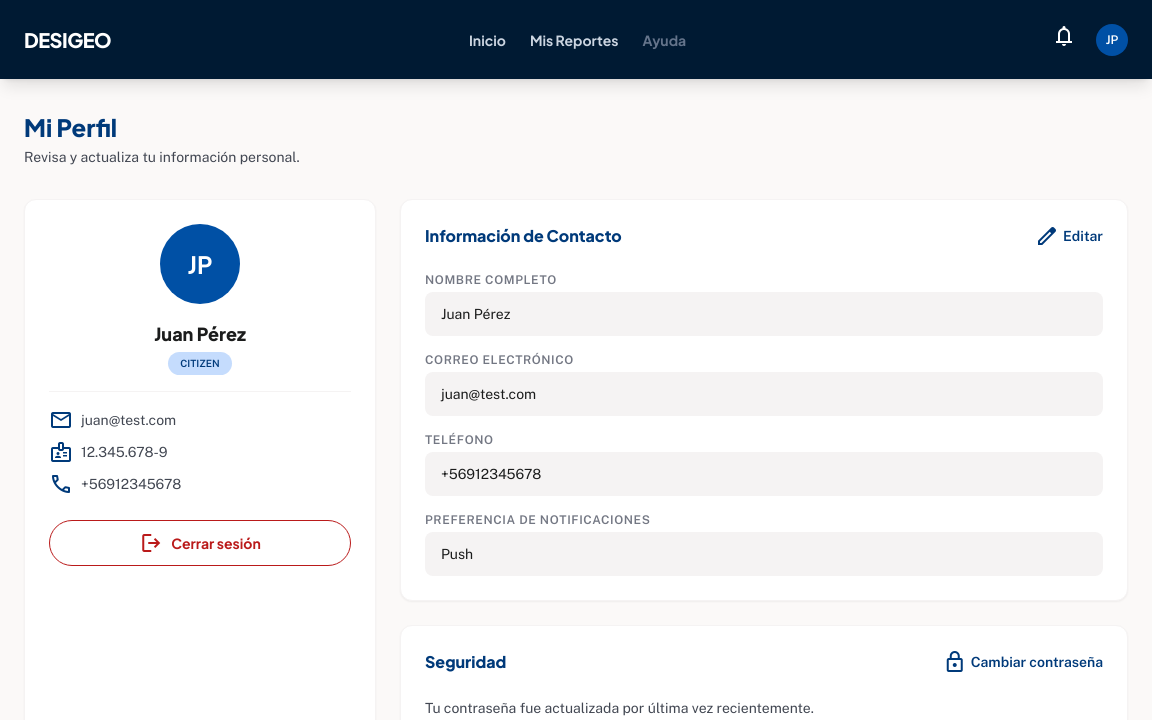
Test: CP-PERFIL — Perfil de Usuario › CP-PERFIL-003: nueva contraseña < 8 caracteres → error de longitud
Check: the heading "Mi Perfil" is shown, box [24, 112, 117, 142]
Click the button "Cambiar contraseña" at (1023, 662), box [943, 650, 1103, 674]
(page scrolled)
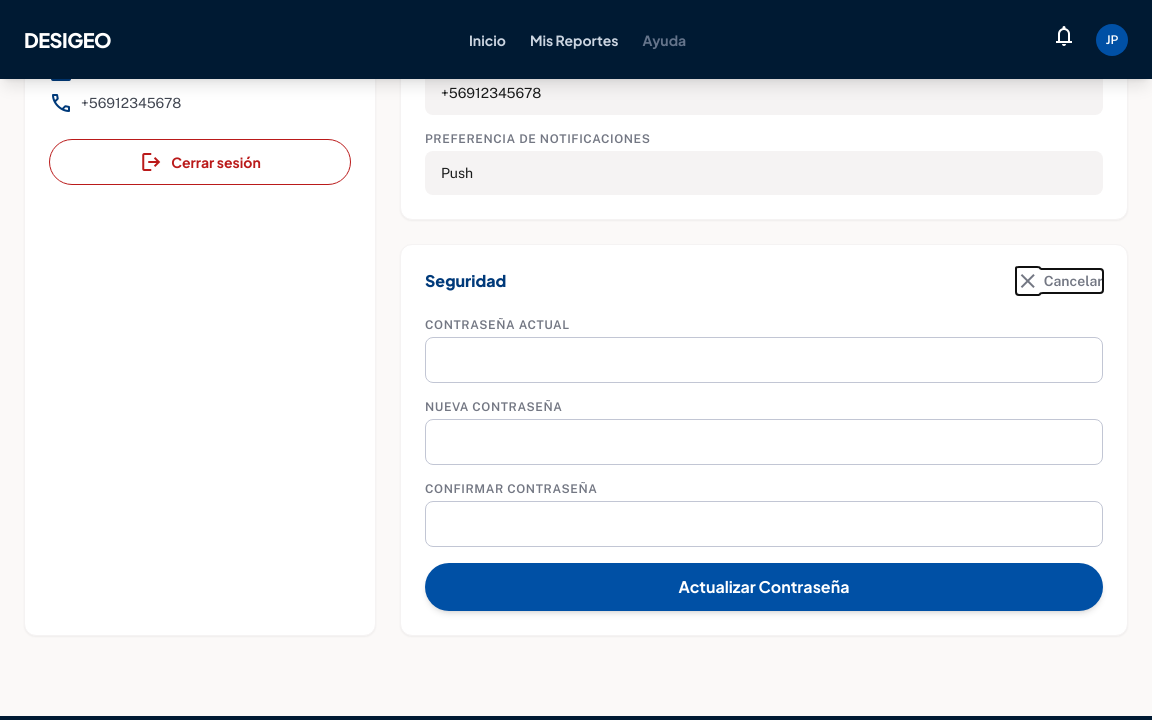
Check: the button "Actualizar Contraseña" is shown, box [425, 563, 1103, 611]
Type "OldPass123!" into the 1st password field at (764, 360), box [425, 337, 1103, 383]
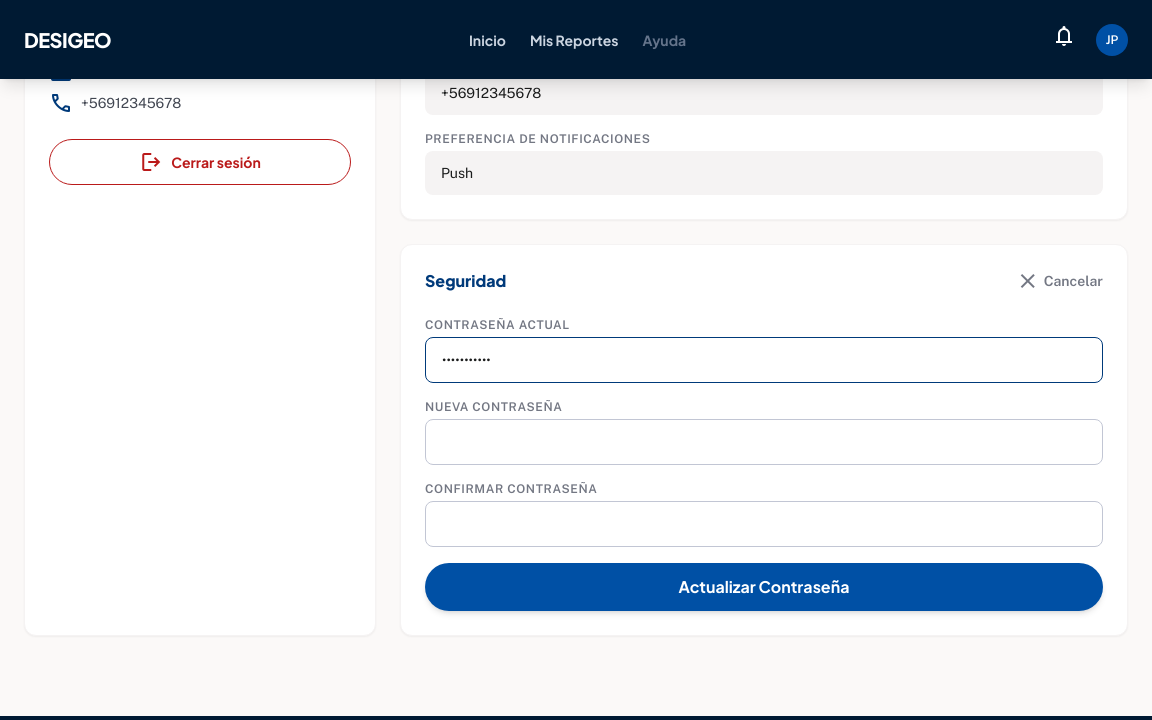
Type "corta" into the password field below "Nueva contraseña" at (764, 442), box [425, 419, 1103, 465]
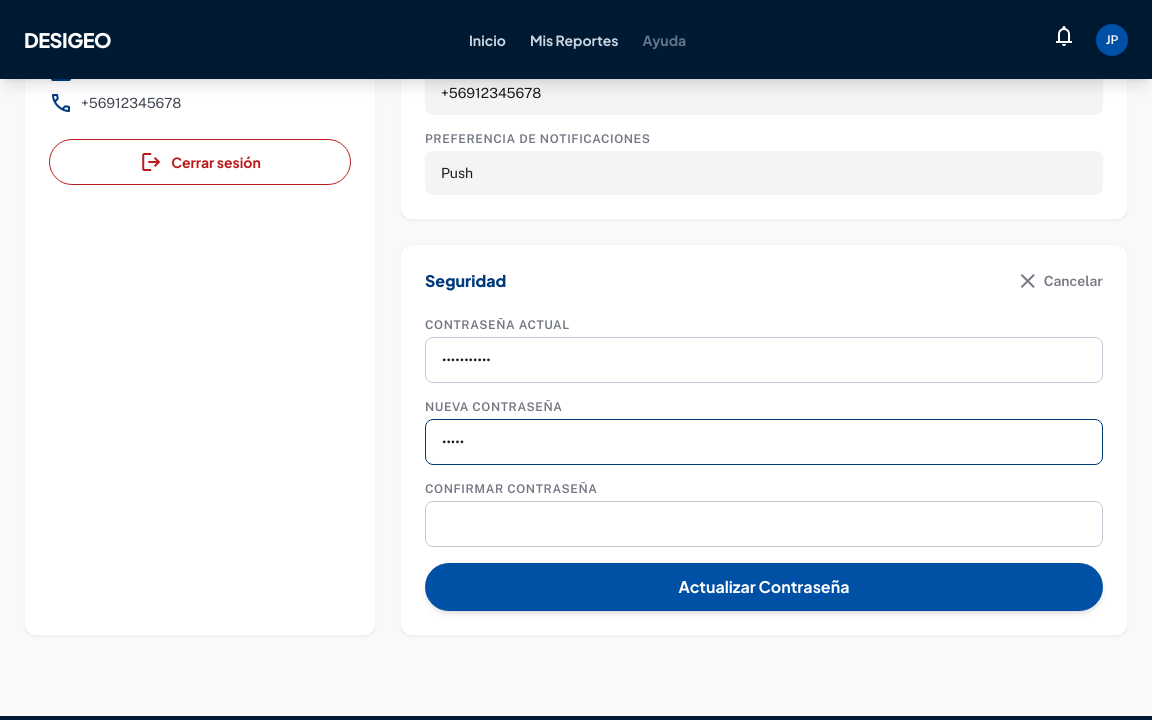
Type "corta" into the password field below "Confirmar contraseña" at (764, 524), box [425, 501, 1103, 547]
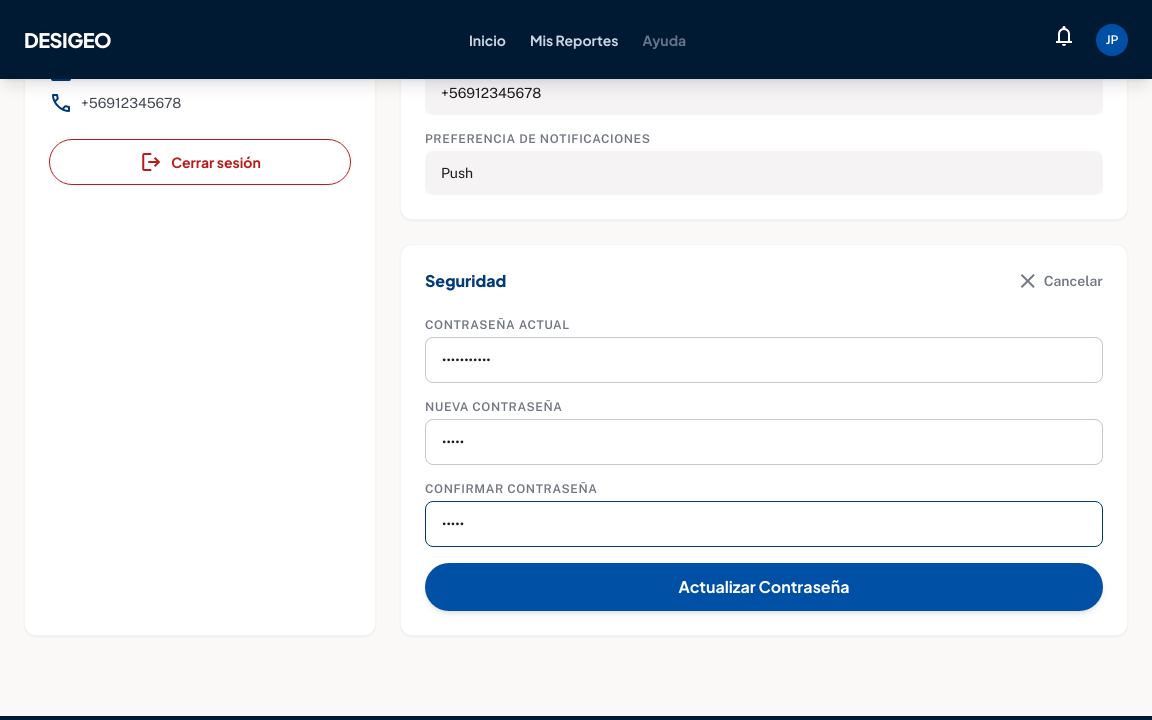
Click the button "Actualizar Contraseña" at (764, 587), box [425, 563, 1103, 611]
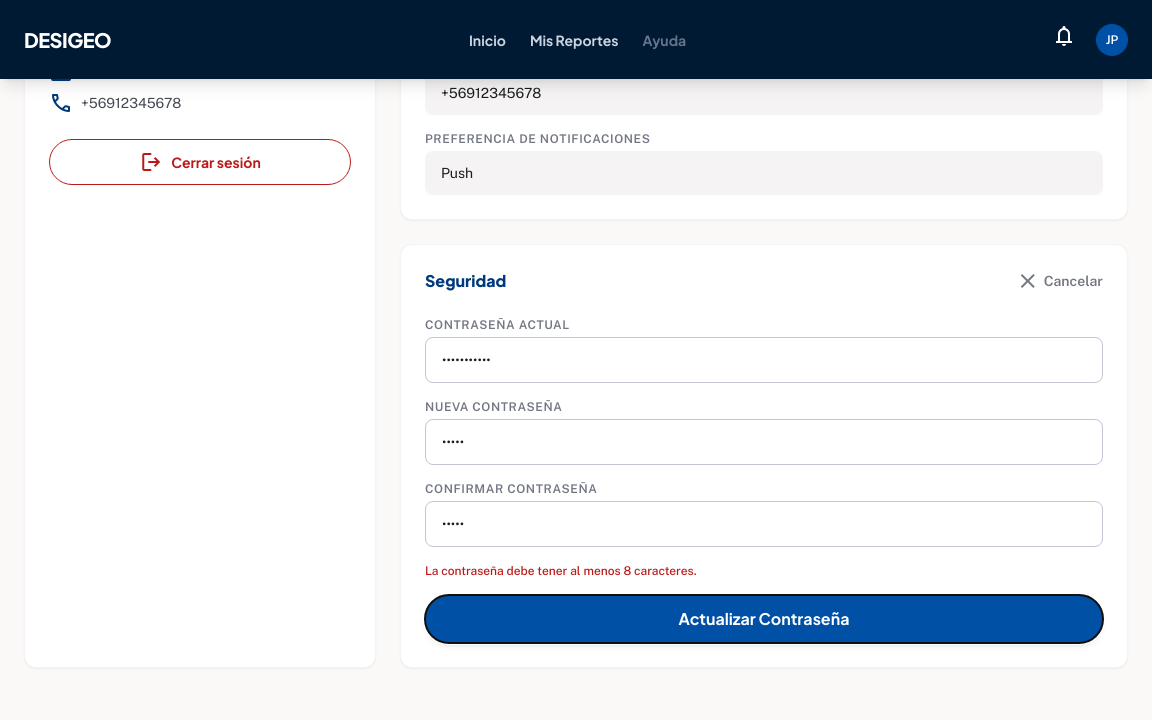
Check: the text "La contraseña debe tener al menos 8 caracteres." is shown, box [425, 564, 697, 578]
